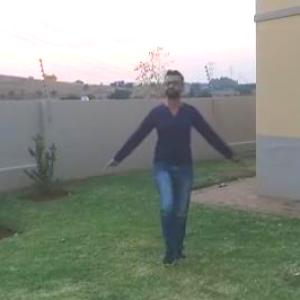land: (120, 84, 219, 224)
